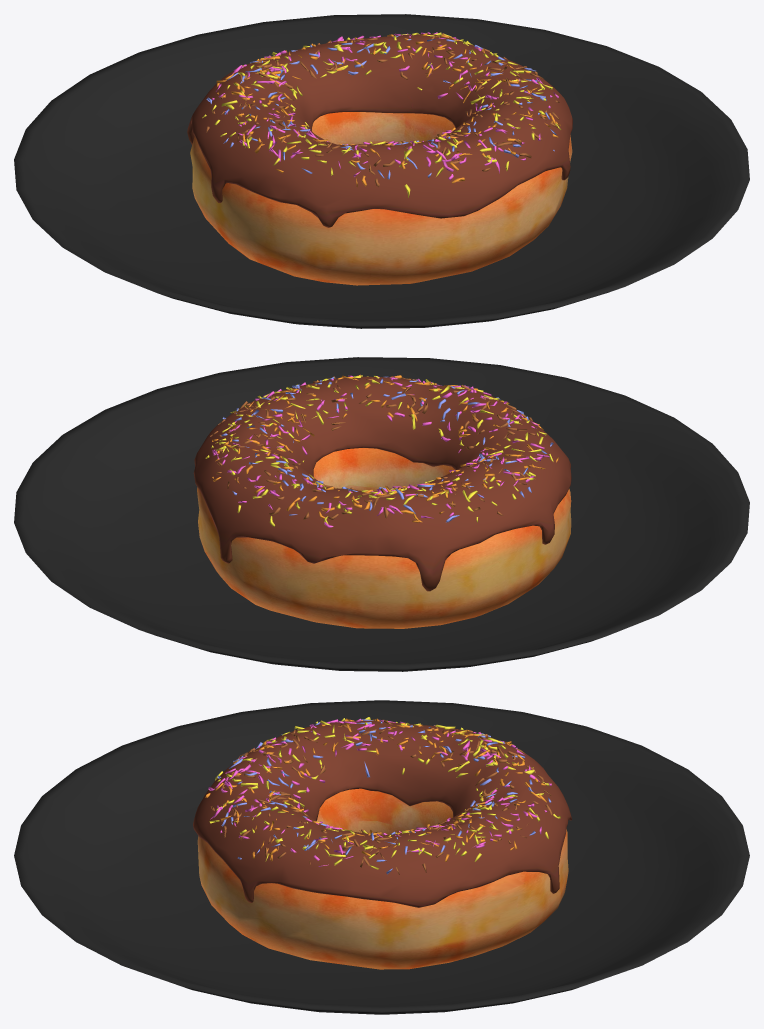
File: donut.glb
The picture shows the model from 3 angles, top to bottom: view 1: azimuth 30°, elevation 25°; view 2: azimuth 150°, elevation 25°; view 3: azimuth 270°, elevation 25°; orthographic projection.
Parts seen in each view (by area): view 1: Plate, Es, Donat, Sprinkles_Baked; view 2: Plate, Es, Donat, Sprinkles_Baked; view 3: Plate, Es, Donat, Sprinkles_Baked.
Boxes of the visible parts, x1,y1,x2,y2 form: Plate: (14,14,749,328); Es: (187,34,572,227); Donat: (190,112,572,285); Sprinkles_Baked: (202,32,561,197); Plate: (14,357,749,671); Es: (193,376,571,591); Donat: (197,448,571,628); Sprinkles_Baked: (205,374,558,527); Plate: (14,700,749,1014); Es: (193,720,571,907); Donat: (197,788,568,969); Sprinkles_Baked: (205,717,560,874).
Bounding box in the file's own units: 0.2833 × 0.0607 × 0.2833.
4 materials, 2 textured.
